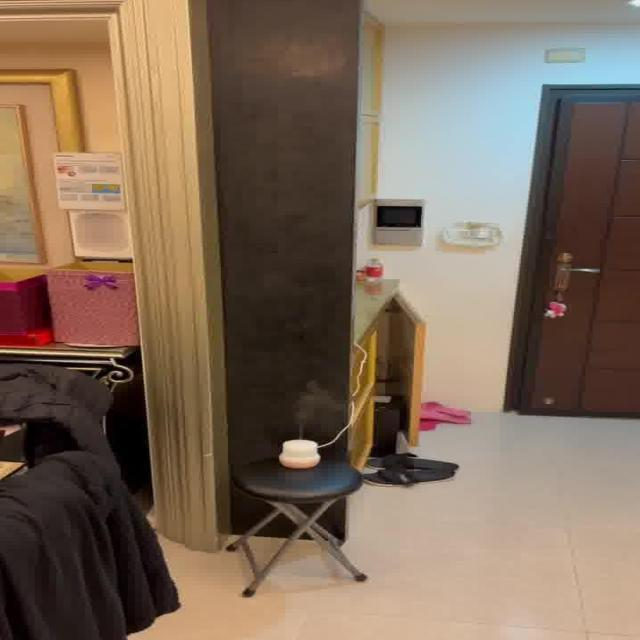fire: (290, 384, 336, 434)
